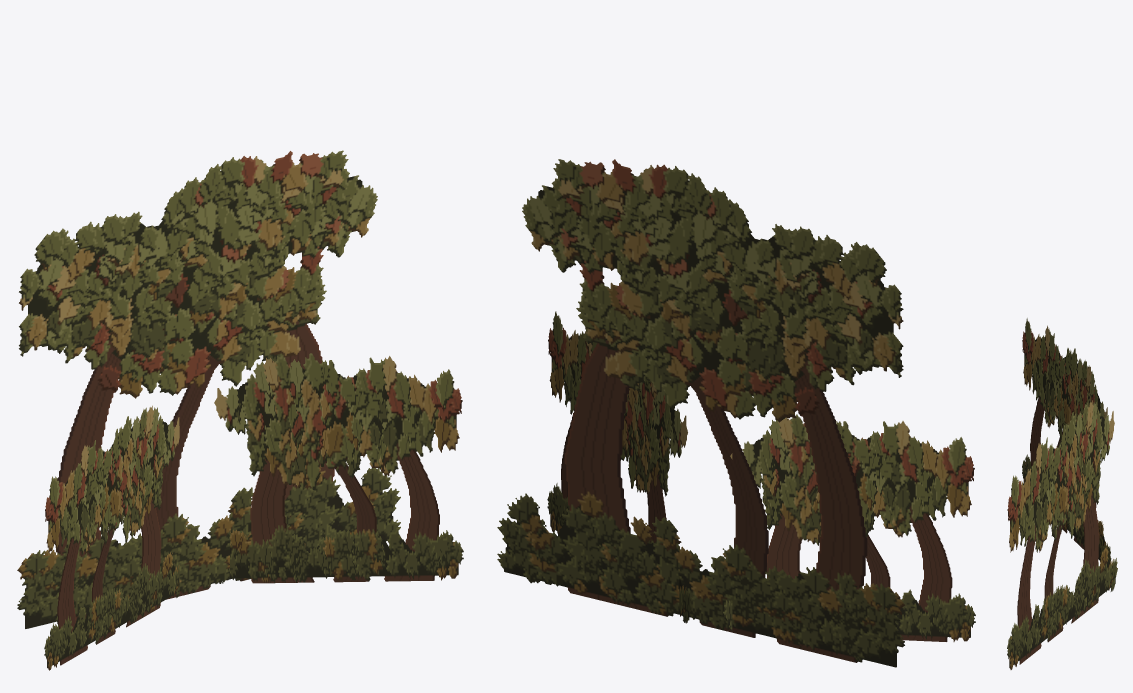
The model's file is SM_VG19_FarTreeSilhouettes.fbx.
The picture shows the model from 3 angles, left to right: view 1: azimuth 30°, elevation 25°; view 2: azimuth 150°, elevation 25°; view 3: azimuth 270°, elevation 25°; orthographic projection. The views are drawn at different scales.
Parts seen in each view (by area): view 1: VG19_Silhouettes; view 2: VG19_Silhouettes; view 3: VG19_Silhouettes.
Boxes of the visible parts, x1,y1,x2,y2 form: VG19_Silhouettes: (17,150,463,670); VG19_Silhouettes: (497,159,975,667); VG19_Silhouettes: (1007,318,1117,669).
Size of the model in its own units: 5.31 by 6.5 by 1.36.
